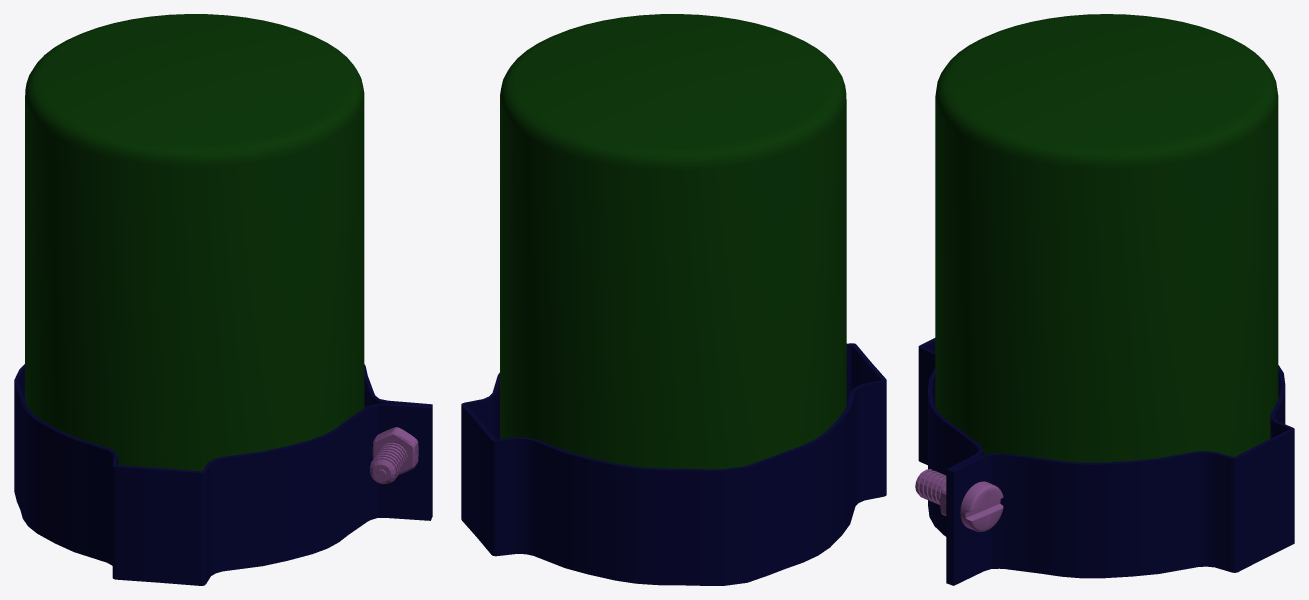
The model's file is bank1.fbx.
3 views of the same model, side by side, from view 1: azimuth 30°, elevation 25°; view 2: azimuth 150°, elevation 25°; view 3: azimuth 270°, elevation 25° (orthographic). The views are drawn at different scales.
Parts seen in each view (by area): view 1: bank1_LOD0; view 2: bank1_LOD0; view 3: bank1_LOD0.
Part boxes in pixels (x1,y1,x2,y2): bank1_LOD0: (14, 14, 432, 585); bank1_LOD0: (461, 14, 886, 585); bank1_LOD0: (915, 14, 1294, 585).
Size of what is drawn, in the model's own units: 1.85 by 2.36 by 1.88.
